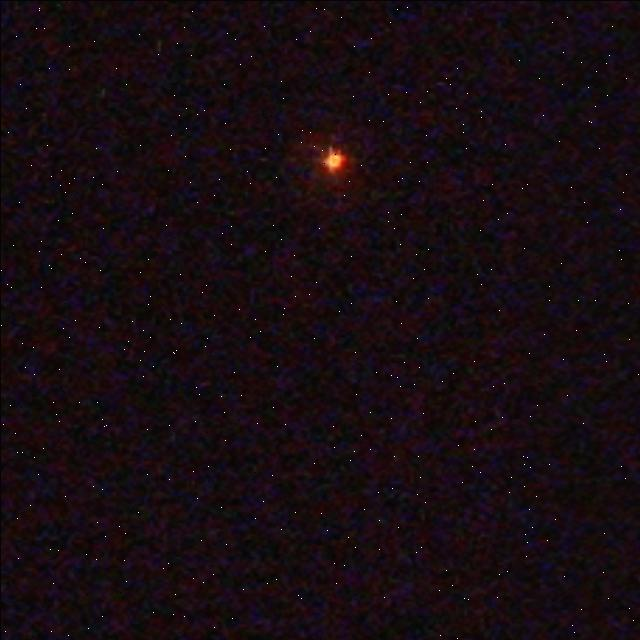Fragment: (317, 148, 345, 174)
